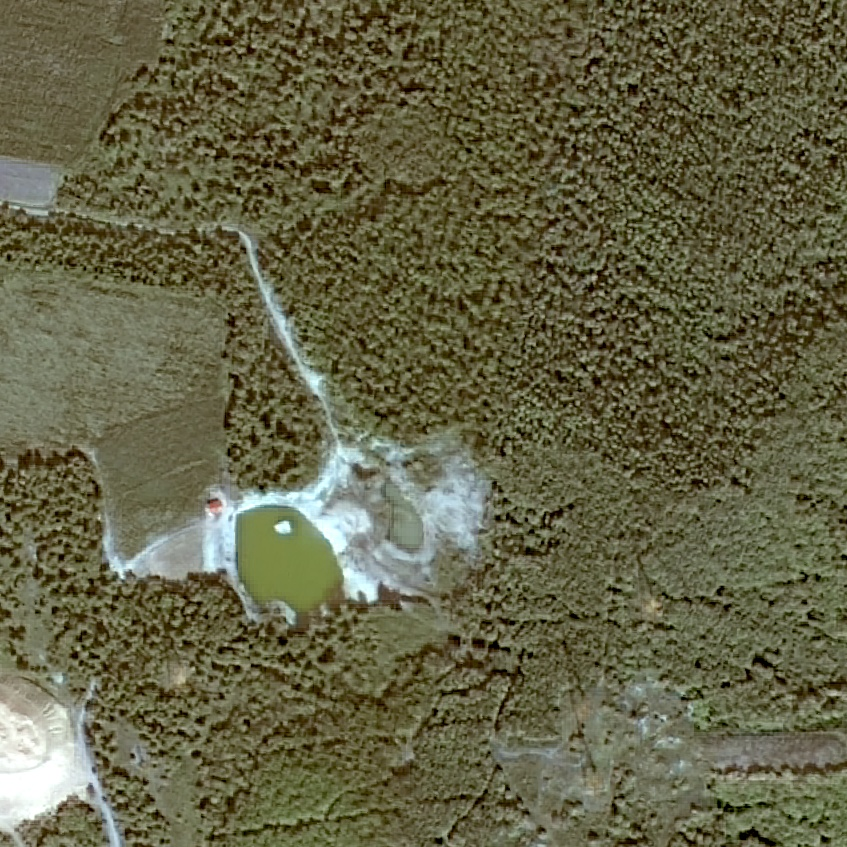slope: (298, 435, 489, 596)
